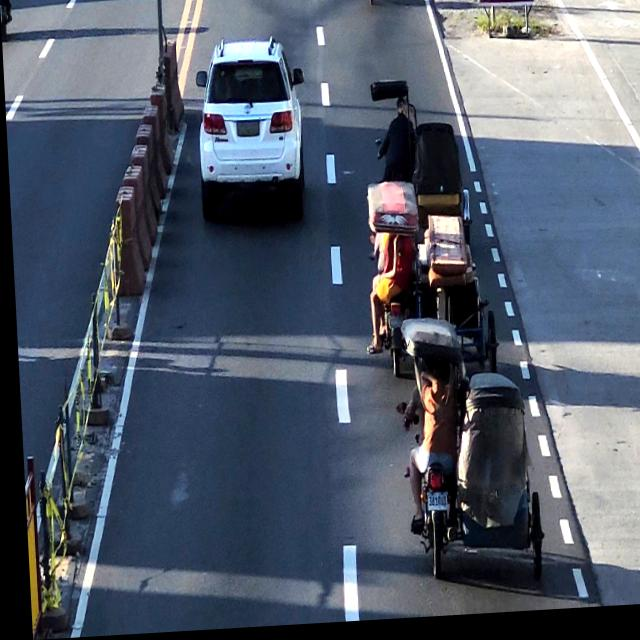License-Plate: (234, 119, 260, 144), (419, 500, 444, 519)
Tricycle: (395, 317, 542, 576), (361, 183, 498, 361), (199, 46, 302, 221), (366, 83, 476, 222)
